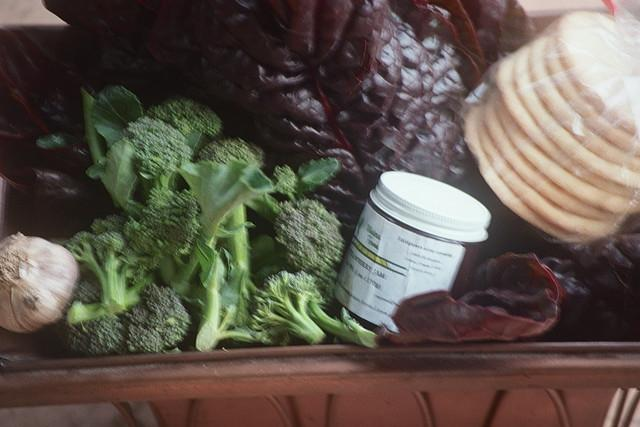broccoli: (67, 231, 161, 324), (182, 246, 263, 352), (50, 272, 128, 356), (274, 198, 346, 278), (252, 270, 326, 346), (122, 188, 202, 258), (116, 116, 192, 177), (125, 284, 191, 352), (144, 94, 225, 140), (304, 301, 380, 349), (196, 136, 266, 170), (274, 165, 299, 195)
